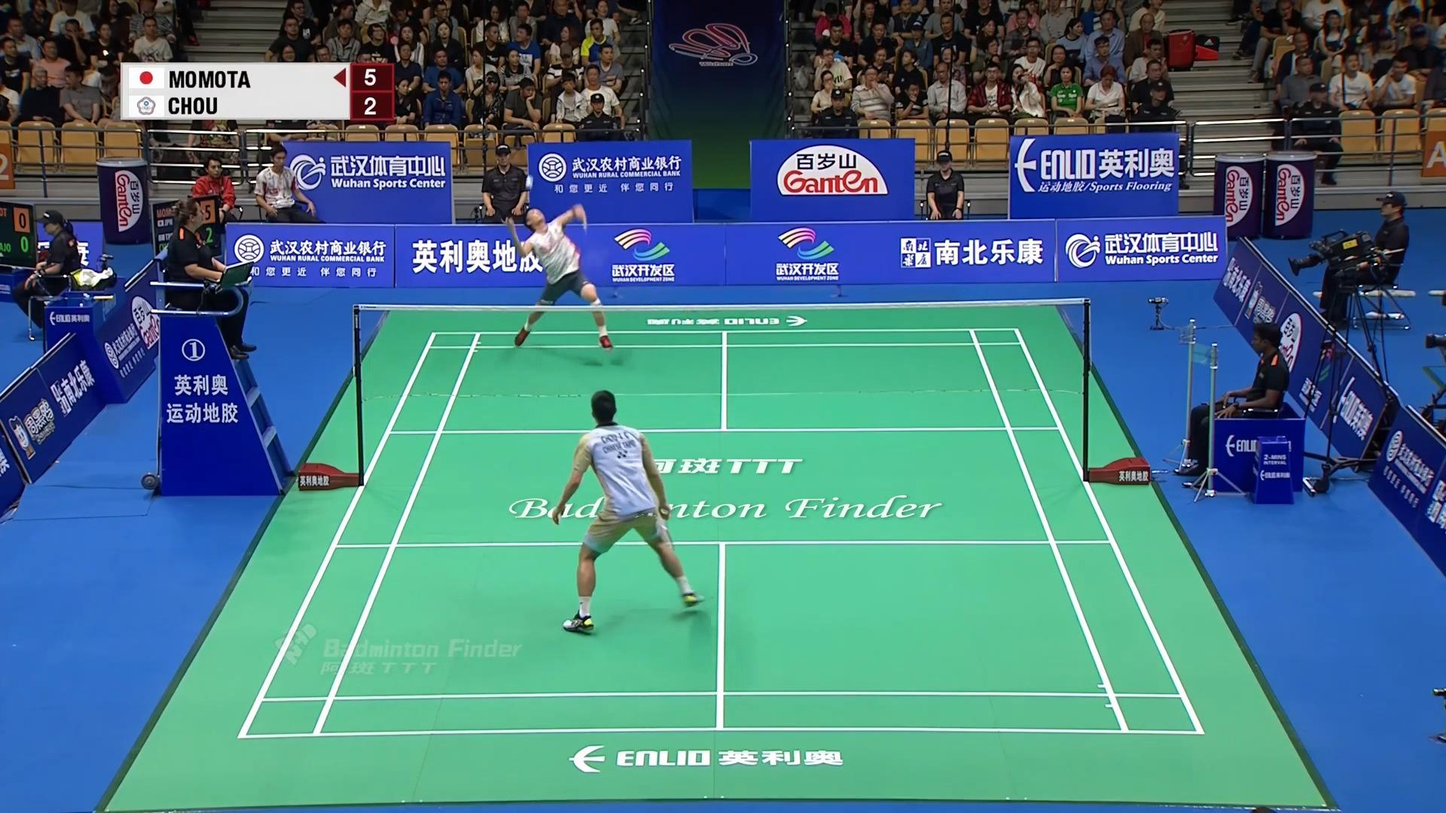player: (551, 391, 702, 636), (514, 205, 613, 353)
